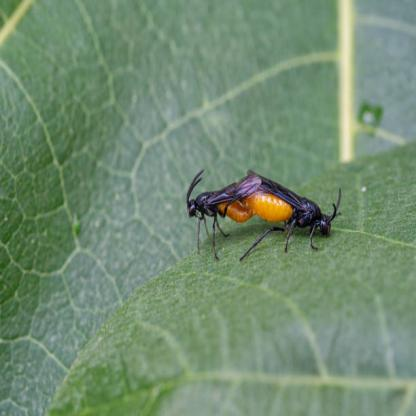sawfly: (233, 164, 351, 273), (178, 166, 265, 265)
